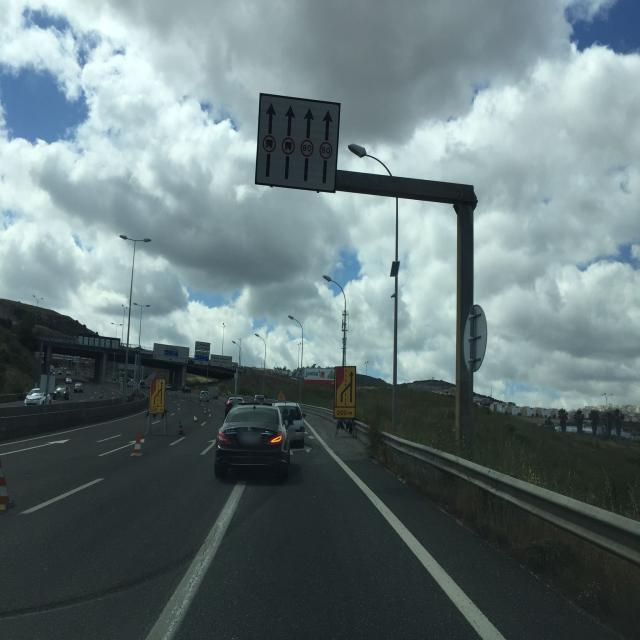car: (214, 404, 292, 480), (274, 402, 306, 448), (24, 388, 50, 406), (54, 385, 70, 400), (74, 381, 84, 394), (182, 386, 192, 394), (65, 376, 73, 384)
